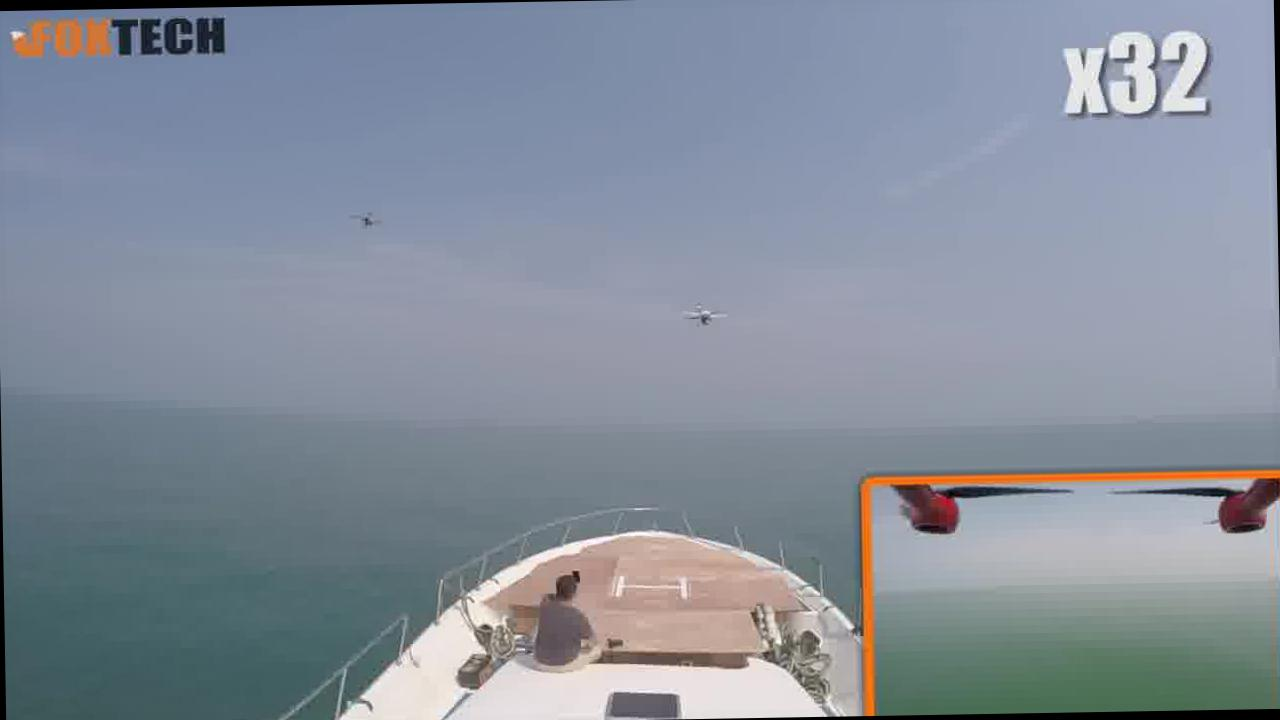drone: (668, 286, 734, 332), (343, 200, 392, 236)
